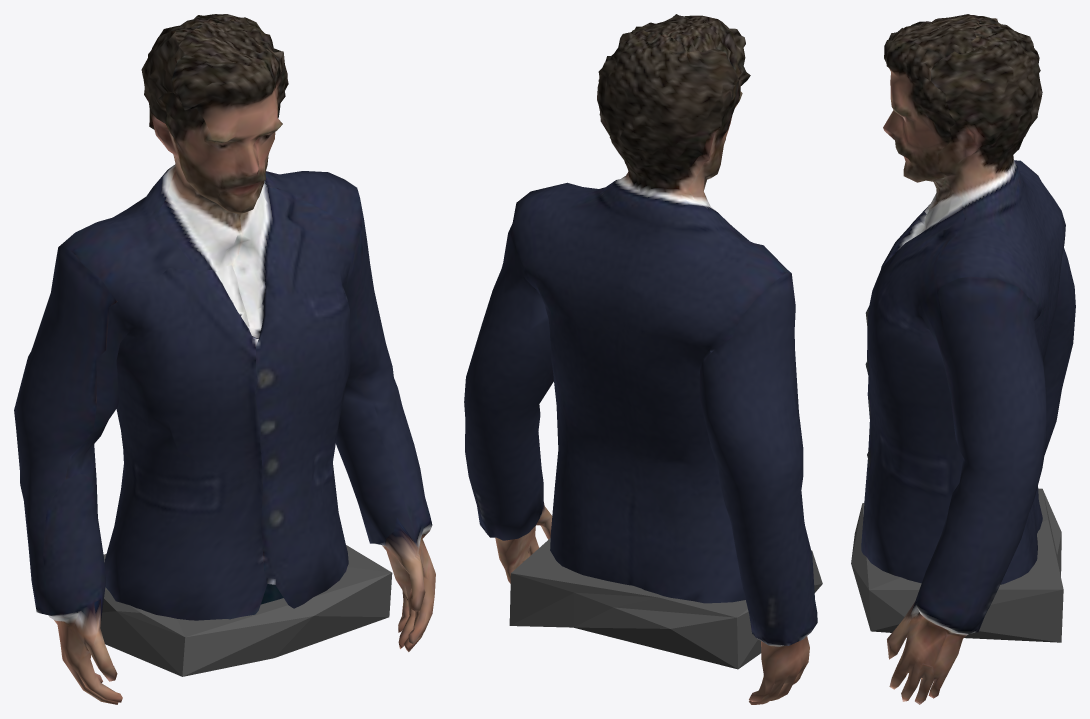
3 views of the same model, side by side, from view 1: azimuth 30°, elevation 25°; view 2: azimuth 150°, elevation 25°; view 3: azimuth 270°, elevation 25° (orthographic). The views are drawn at different scales.
Visible parts, largest first — view 1: remesh_12_combined_Remeshed, Cube; view 2: remesh_12_combined_Remeshed, Cube; view 3: remesh_12_combined_Remeshed, Cube.
Boxes of the visible parts, box(x1,y1,x2,y2) form: remesh_12_combined_Remeshed: box(14, 14, 435, 704); Cube: box(100, 545, 392, 676); remesh_12_combined_Remeshed: box(464, 14, 817, 704); Cube: box(509, 538, 822, 669); remesh_12_combined_Remeshed: box(861, 14, 1075, 704); Cube: box(851, 488, 1063, 642).
Size of the model in its own units: 124 by 215 by 70.57.
Materials: 2 (1 with a texture image).
